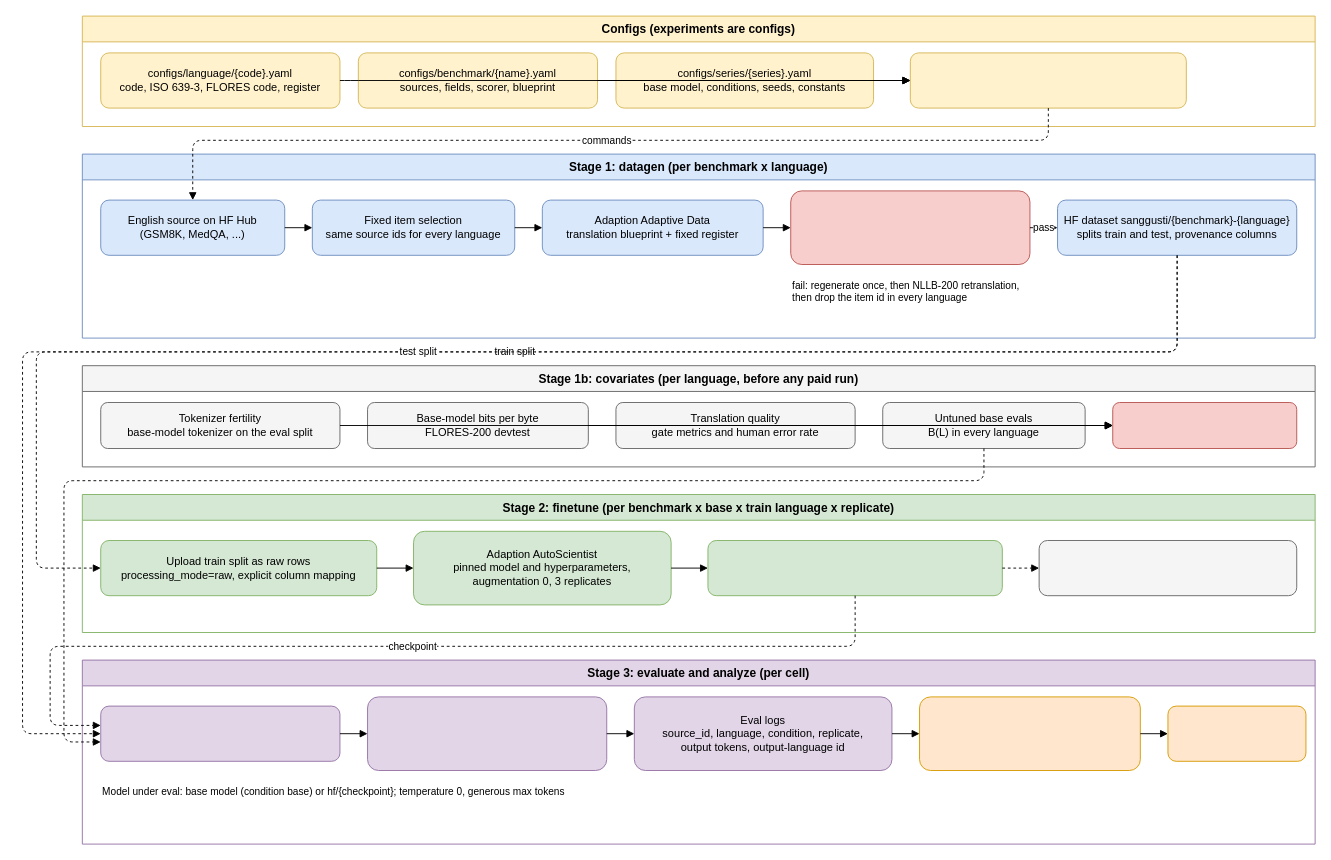
The diagram is 1331 pixels wide and 860 high, and some of its shapes have lost their labels. Each missing label, with the centre of its shape:
"Analysis paired item bootstrap, GLMM, Holm on the primary family" belongs at [1029,733].
"Checkpoint on HF Hub sanggusti/{benchmark}-{train}-{series}-{base}-r{n}" belongs at [854,568].
"Go / no-go per language" belongs at [1204,425].
"Inspect task translated_benchmark -T benchmark -T language" belongs at [220,733].
"Language-agnostic scorer numeric match or choice letter, literal ANSWER marker" belongs at [487,733].
"pipeline/plan.py expands the matrix, prints stage commands" belongs at [1047,80].
"Quality gate LID, preservation checks, NLLB agreement, QE, human ESA sample" belongs at [910,227].
"Report + docs/experiments.md" belongs at [1236,733].
"wandb run resolved config, best_hyperparams, tokens" belongs at [1167,568].
